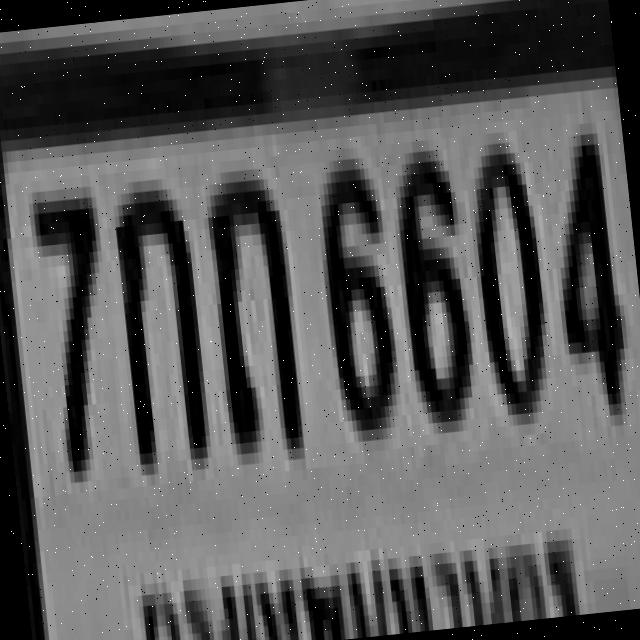0: (462, 130, 550, 417)
10GorGai: (106, 176, 208, 464)
31ThorThung: (198, 162, 299, 450)
4: (541, 122, 625, 408)
6: (311, 146, 395, 432), (386, 138, 473, 414)
7: (27, 186, 115, 473)
